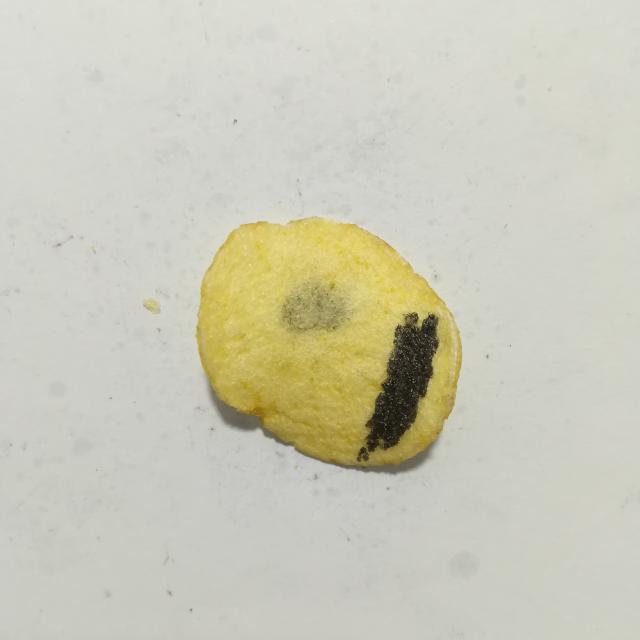chip: (196, 217, 462, 466)
damaged: (357, 312, 439, 462)
semi-damaged: (281, 282, 352, 331)
